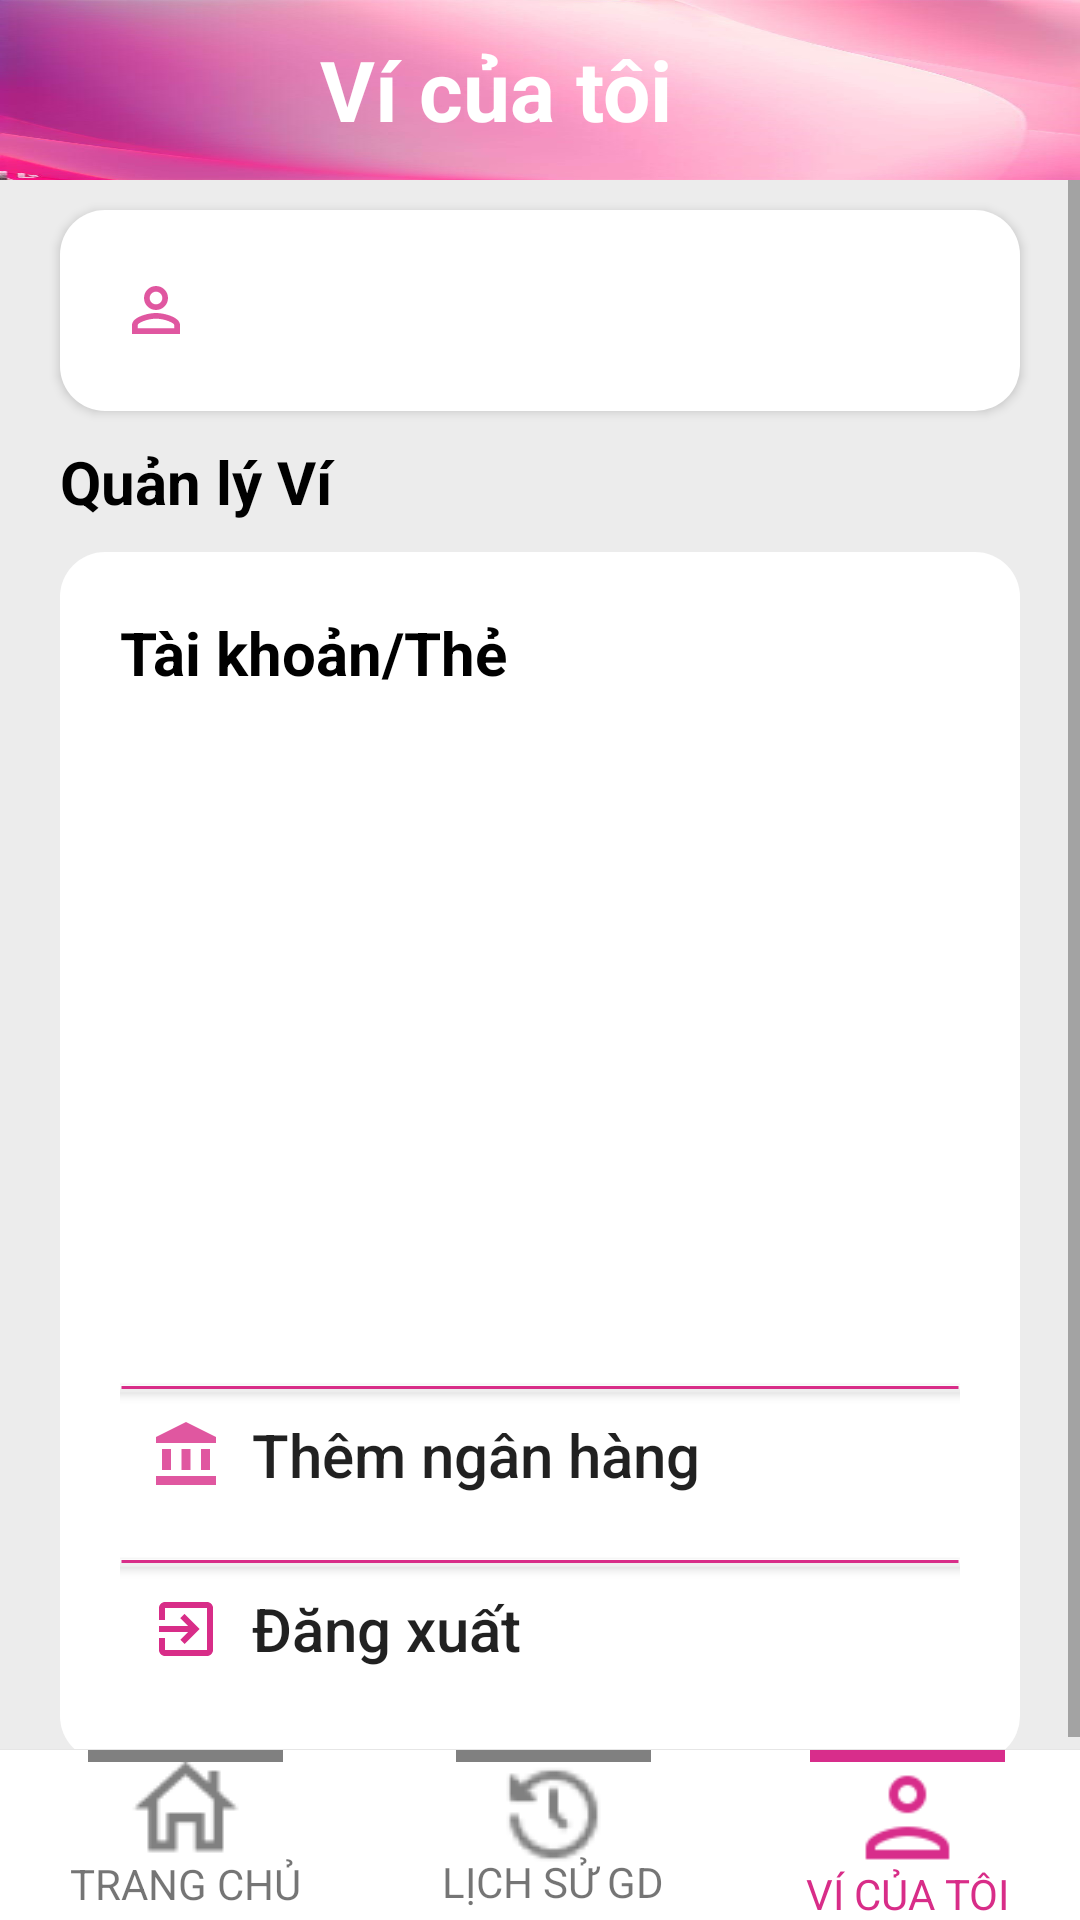

Locate icon controls on the screen. Image size 1080 x 1920, boxes as (x1,y1,x2,y2).
user clicked: (865,1775,950,1873)
